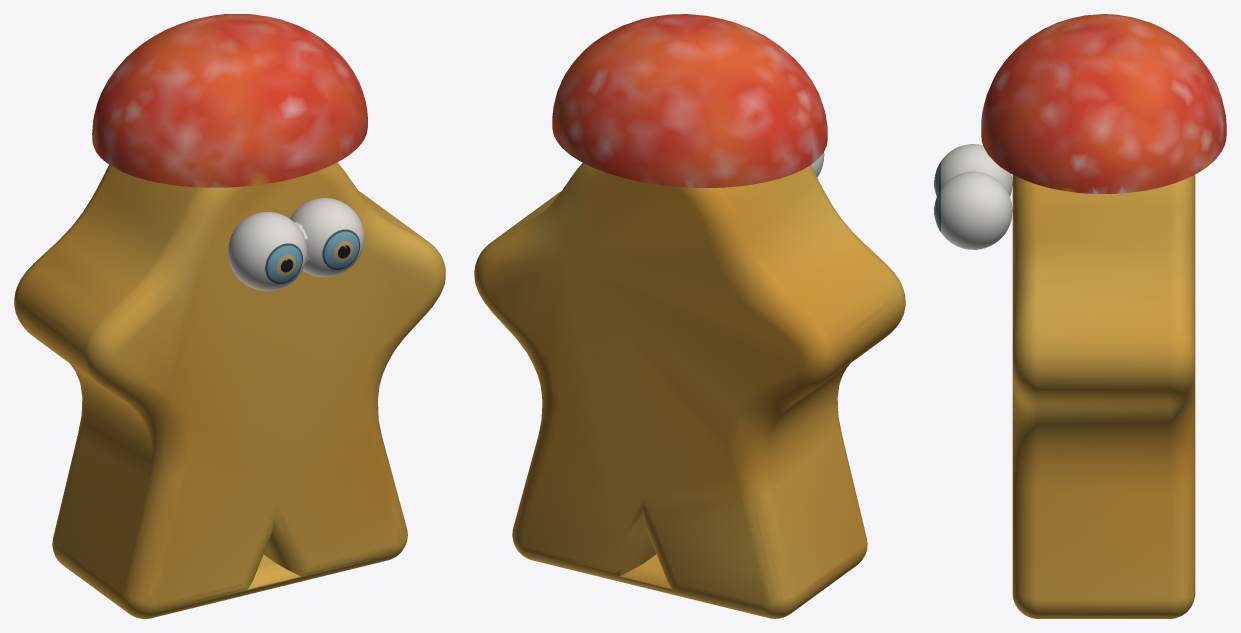
Rendered from meeple-standing.glb.
The picture shows the model from 3 angles, left to right: view 1: azimuth 30°, elevation 25°; view 2: azimuth 150°, elevation 25°; view 3: azimuth 270°, elevation 25°; orthographic projection.
Visible parts, largest first — view 1: meeple, eye; view 2: meeple; view 3: meeple, eye.
Boxes of the visible parts, x1,y1,x2,y2 form: meeple: [14, 14, 445, 618]; eye: [228, 198, 364, 291]; meeple: [474, 14, 905, 618]; meeple: [981, 14, 1226, 618]; eye: [934, 144, 1012, 249].
Bounding box in the file's own units: 1.88 × 2.69 × 1.34.
